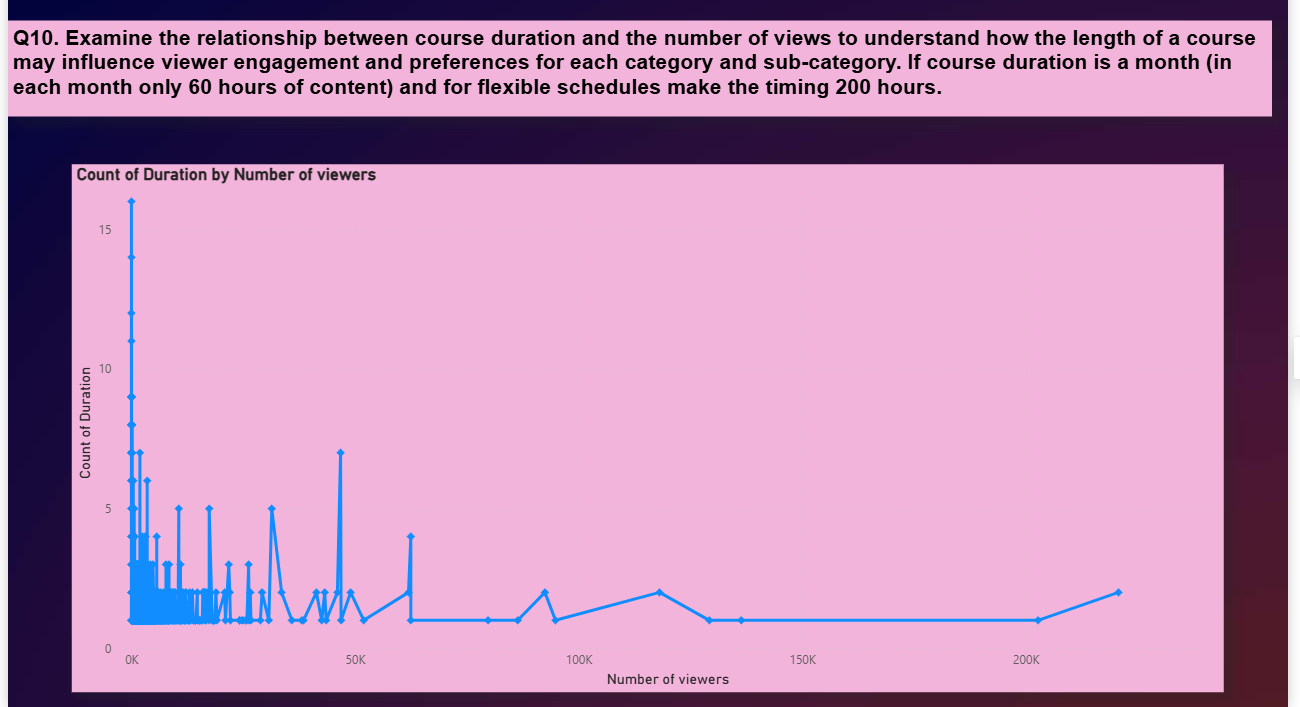

This screenshot's page, from the dashboard's own definition file:
{"tool":"powerbi","page":{"name":"Q10","canvas":[1280,720],"ordinal":10},"visuals":[{"type":"lineChart","fields":{"Y":["CountNonNull(Online_Courses.Duration)"],"Category":["Online_Courses.Number of viewers"]},"box":[64,176,1152,528],"z":0},{"type":"textbox","box":[0,32,1264,96],"z":3000}]}

Visuals, with their boxes in screenshot pixels (x1, y1, x2, y2):
lineChart - CountNonNull(Online_Courses.Duration) x Online_Courses.Number of viewers: select_region(129, 163, 1286, 694)
textbox: select_region(64, 19, 1299, 115)
